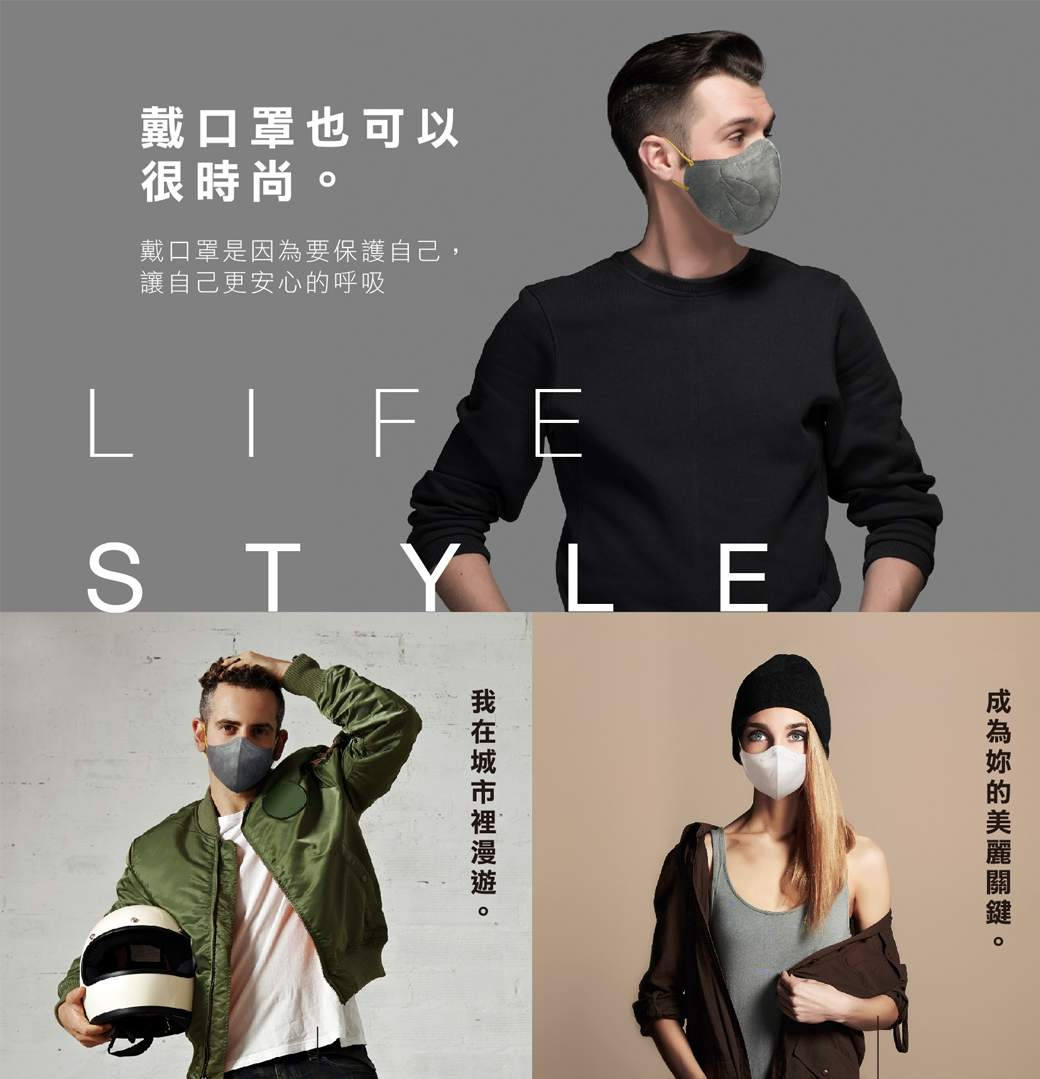Mask: (666, 79, 793, 239), (192, 678, 289, 795), (734, 705, 824, 803)
